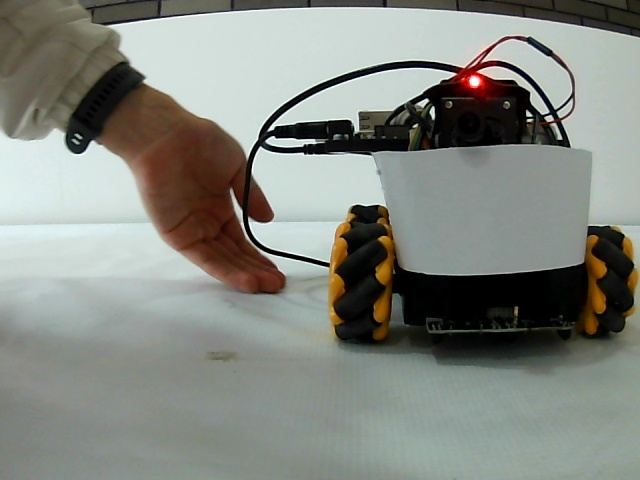car: (323, 69, 638, 343)
paper: (384, 152, 587, 270)
